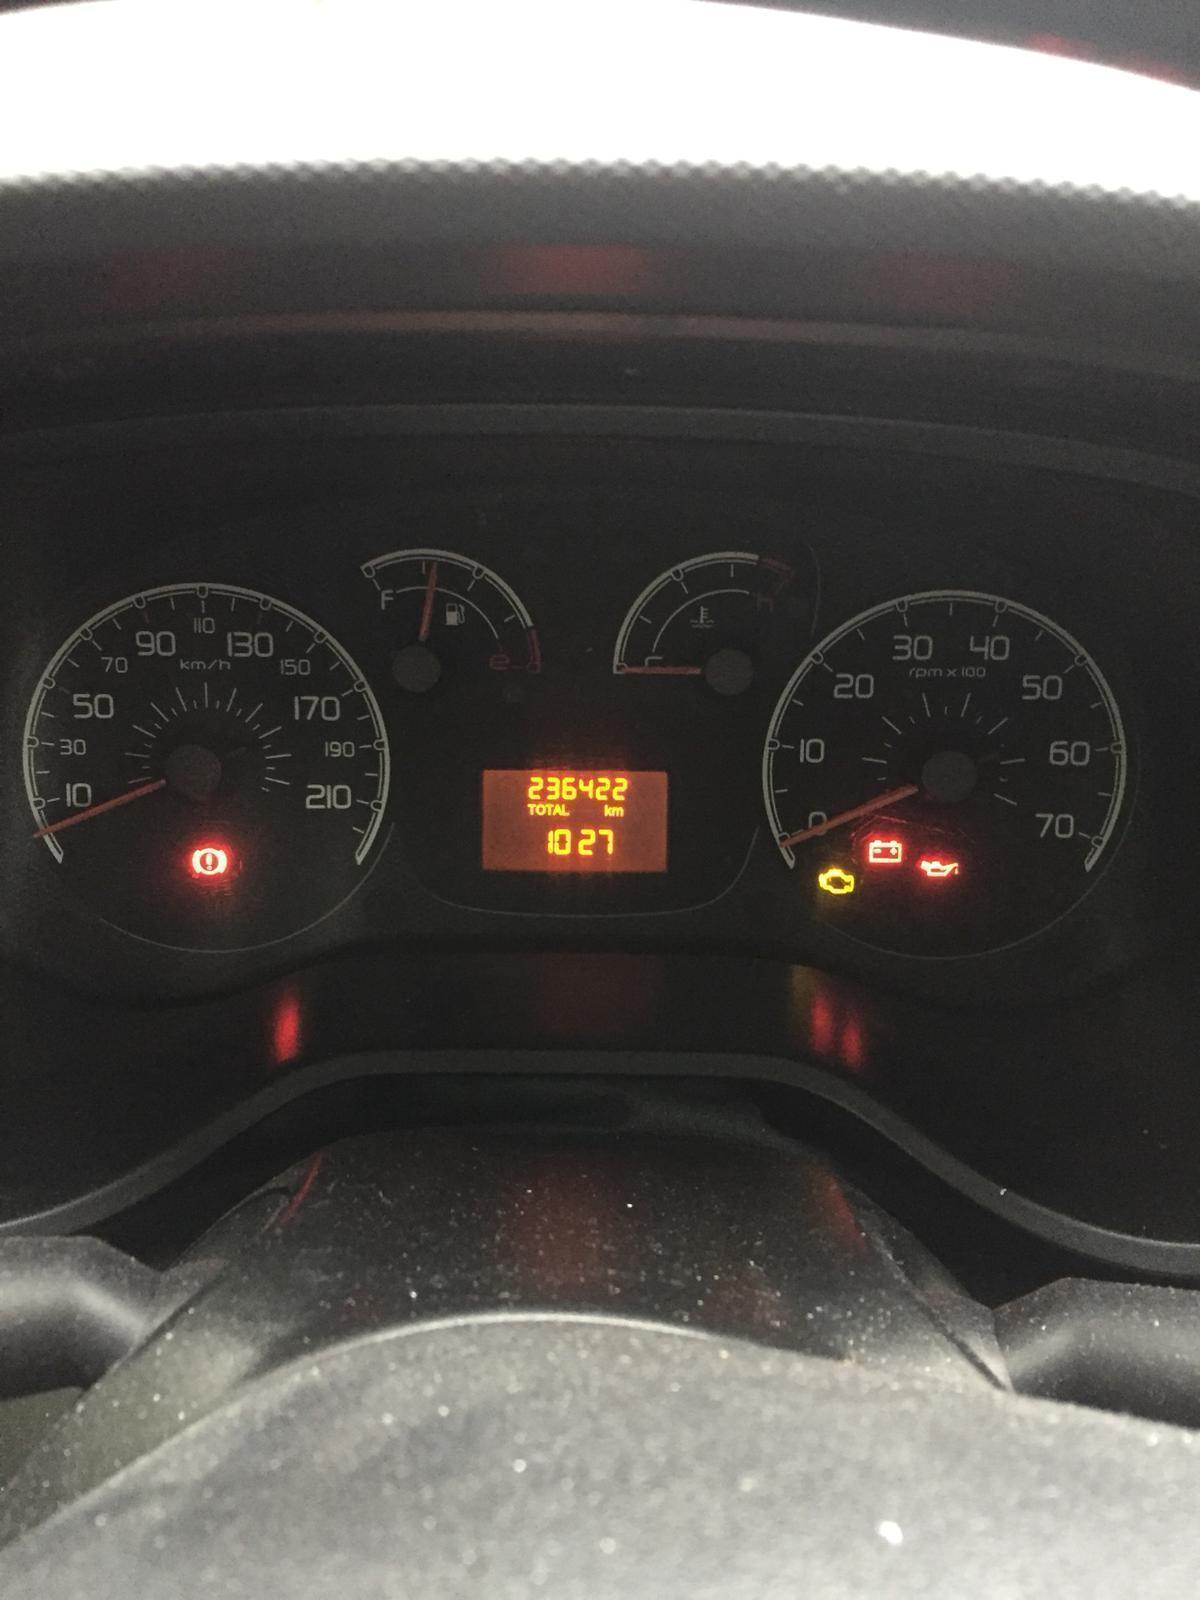0: (555, 828, 572, 855)
1: (545, 828, 553, 855)
2: (577, 826, 597, 857), (613, 774, 630, 803), (527, 774, 545, 800), (596, 774, 613, 801)
3: (546, 774, 561, 800)
4: (577, 777, 597, 801)
6: (562, 776, 579, 801)
7: (597, 826, 614, 858)
X: (552, 803, 562, 816), (603, 804, 613, 816), (545, 803, 553, 816), (613, 805, 623, 816), (536, 803, 545, 815), (561, 803, 568, 816), (527, 803, 534, 815)
odometer: (482, 769, 666, 873)
